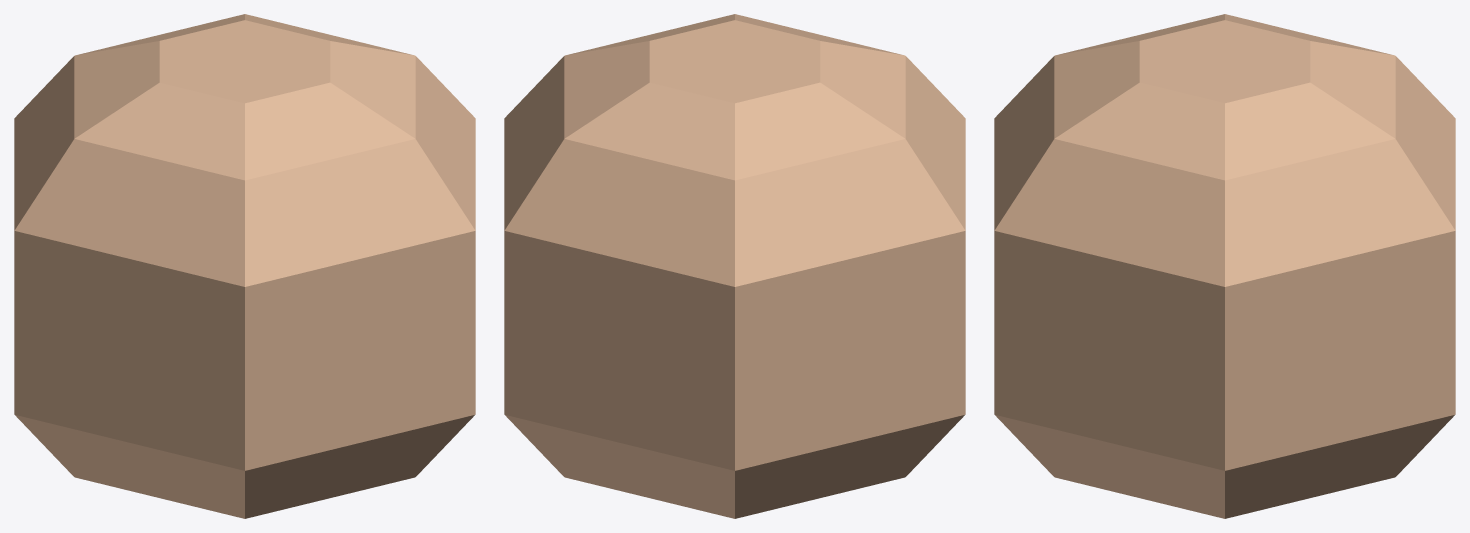
Rendered from meteorFullRound.glb.
3 renders of one model, left to right at view 1: azimuth 30°, elevation 25°; view 2: azimuth 150°, elevation 25°; view 3: azimuth 270°, elevation 25°, orthographic.
Visible parts, largest first — view 1: meteorFullRound; view 2: meteorFullRound; view 3: meteorFullRound.
Part boxes in pixels (x1,y1,x2,y2): meteorFullRound: (14, 14, 475, 518); meteorFullRound: (504, 14, 965, 518); meteorFullRound: (994, 14, 1455, 518).
Size of the model in its own units: 11.55 by 9.8 by 10.
